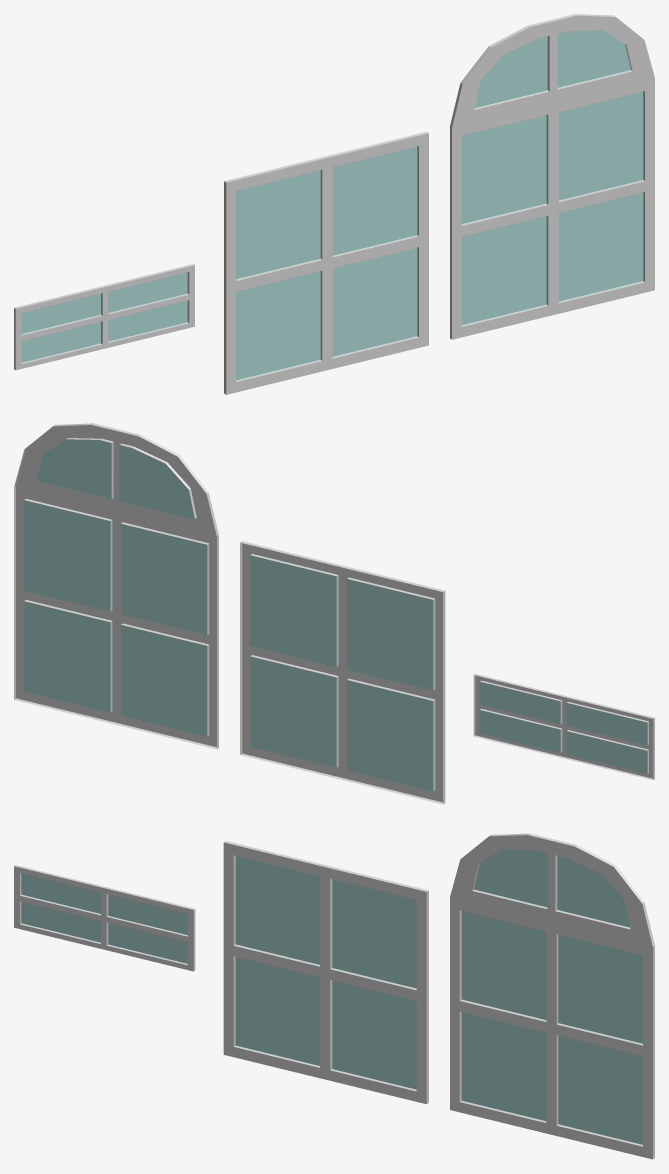
File: Windows.fbx
The picture shows the model from 3 angles, top to bottom: view 1: azimuth 30°, elevation 25°; view 2: azimuth 150°, elevation 25°; view 3: azimuth 330°, elevation 25°; orthographic projection.
Visible parts, largest first — view 1: Window 1, Window 2, Window 3; view 2: Window 1, Window 2, Window 3; view 3: Window 1, Window 2, Window 3.
Part boxes in pixels (x1=…): Window 1: x1=450, y1=14, x2=654, y2=339; Window 2: x1=224, y1=131, x2=428, y2=394; Window 3: x1=14, y1=264, x2=194, y2=370; Window 1: x1=14, y1=423, x2=218, y2=749; Window 2: x1=240, y1=541, x2=445, y2=804; Window 3: x1=473, y1=674, x2=654, y2=780; Window 1: x1=450, y1=833, x2=654, y2=1159; Window 2: x1=223, y1=841, x2=428, y2=1104; Window 3: x1=14, y1=865, x2=195, y2=971.
Bounding box in the file's own units: 2.51 × 1.1 × 0.0146.
